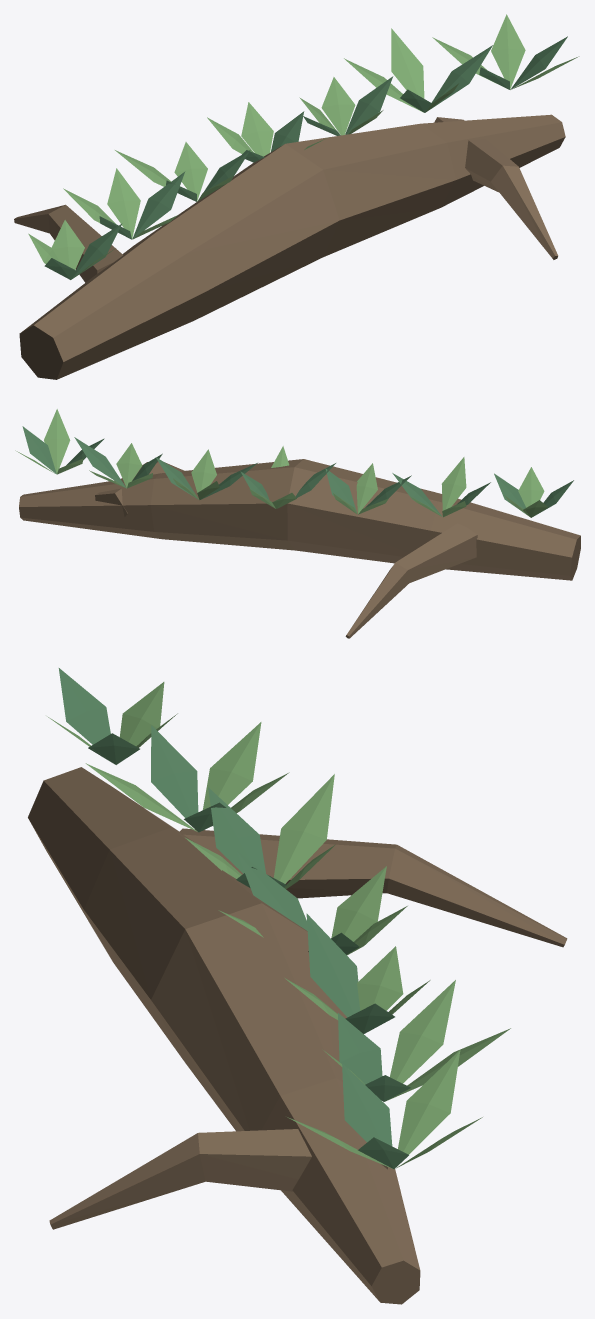
3 renders of one model, top to bottom at view 1: azimuth 30°, elevation 25°; view 2: azimuth 150°, elevation 25°; view 3: azimuth 270°, elevation 25°, orthographic. The views are drawn at different scales.
Parts seen in each view (by area): view 1: Wildwuchs_bark_nocol, Wildwuchs_green_nocol, Wildwuchs_deep_nocol; view 2: Wildwuchs_bark_nocol, Wildwuchs_green_nocol, Wildwuchs_deep_nocol; view 3: Wildwuchs_bark_nocol, Wildwuchs_green_nocol, Wildwuchs_deep_nocol.
Part boxes in pixels (<box>): Wildwuchs_bark_nocol: <box>14,114,565,379</box>; Wildwuchs_green_nocol: <box>28,14,579,278</box>; Wildwuchs_deep_nocol: <box>44,36,567,279</box>; Wildwuchs_bark_nocol: <box>19,459,580,638</box>; Wildwuchs_green_nocol: <box>15,409,547,517</box>; Wildwuchs_deep_nocol: <box>22,426,573,516</box>; Wildwuchs_bark_nocol: <box>28,767,567,1304</box>; Wildwuchs_green_nocol: <box>47,682,510,1168</box>; Wildwuchs_deep_nocol: <box>58,668,410,1168</box>.
Bounding box in the file's own units: 3.79 × 0.7402 × 1.83.
